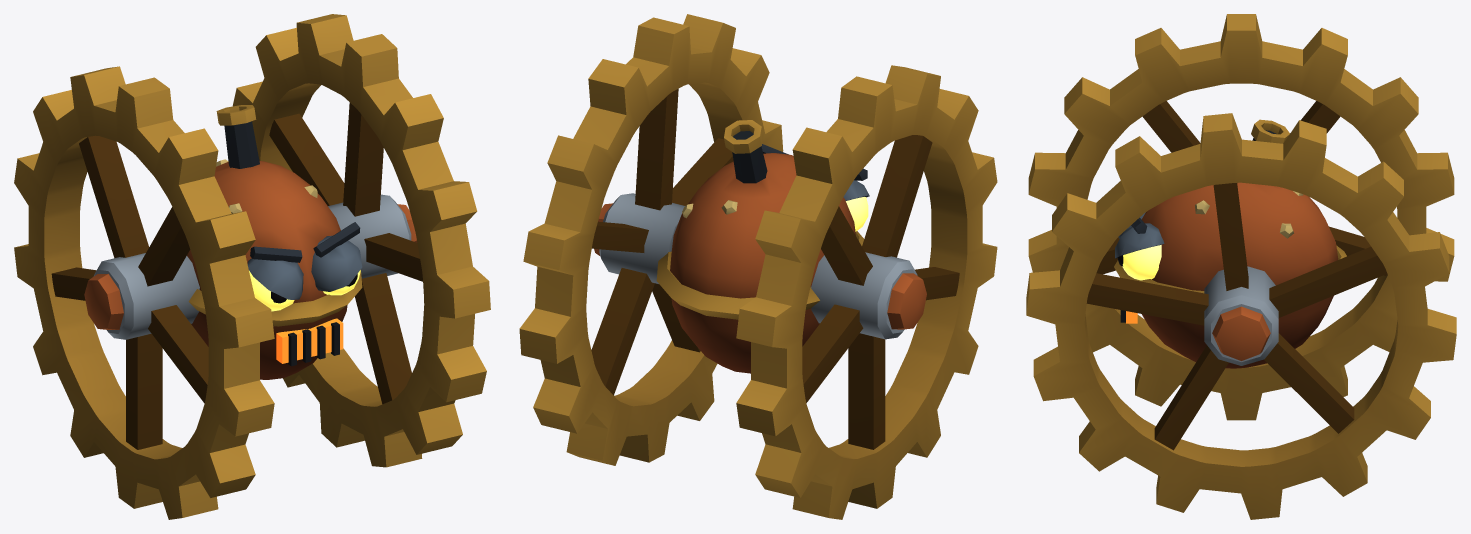
Rendered from rolling_forge.glb.
3 renders of one model, left to right at view 1: azimuth 30°, elevation 25°; view 2: azimuth 150°, elevation 25°; view 3: azimuth 270°, elevation 25°, orthographic. The views are drawn at different scales.
Visible parts, largest first — view 1: shell, face; view 2: shell, face; view 3: shell, face.
Part boxes in pixels (x1,y1,x2,y2): shell: (14, 14, 490, 519); face: (187, 105, 362, 379); shell: (519, 14, 997, 519); face: (656, 120, 869, 373); shell: (1026, 14, 1456, 519); face: (1114, 119, 1346, 368).
Size of the model in its own units: 0.89 by 1.1 by 1.1.
